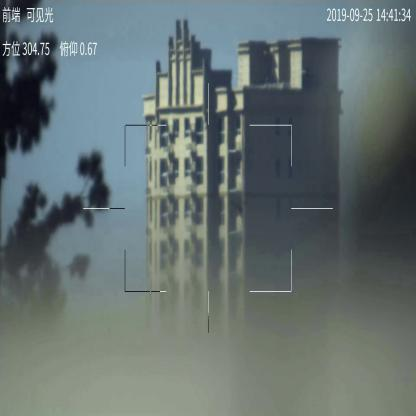uav: (232, 197, 250, 219)
